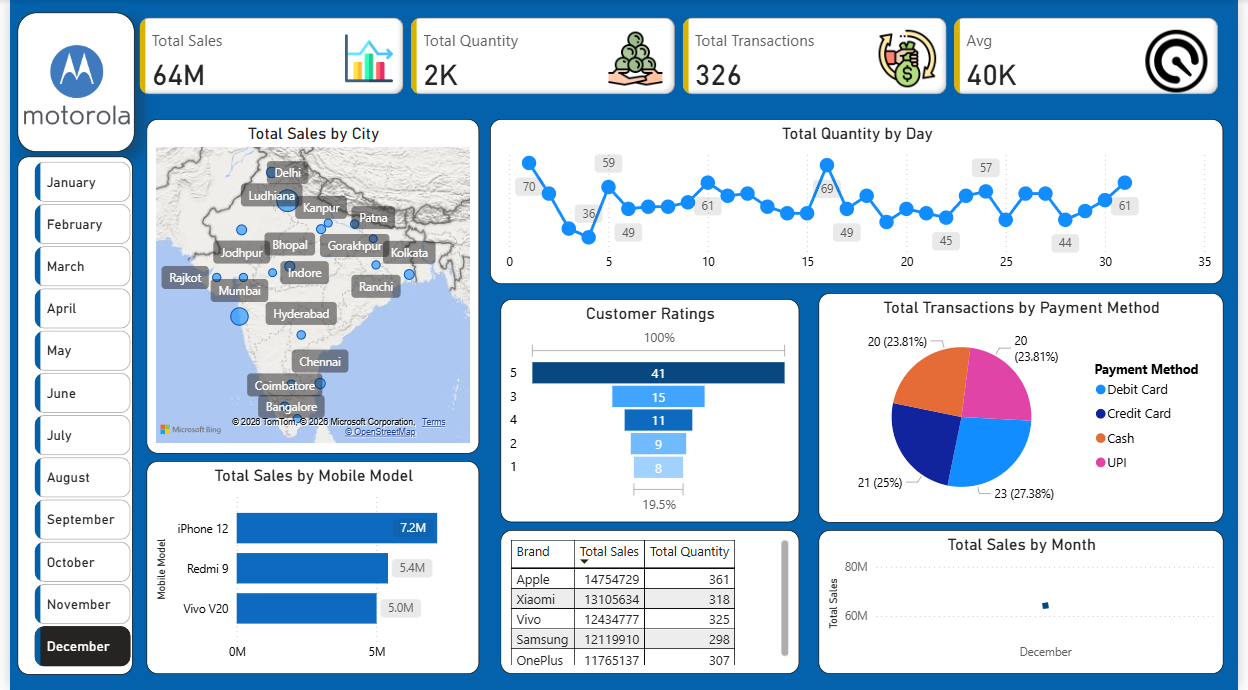

This screenshot's page, from the dashboard's own definition file:
{"tool":"powerbi","page":{"name":"Page 1","canvas":[1280,720],"ordinal":0},"visuals":[{"type":"shape","box":[8.3,13.3,121.7,145],"z":0},{"type":"image","box":[10,13.3,120,150],"z":1000},{"type":"shape","box":[8.3,163.3,120,540],"z":2000},{"type":"advancedSlicerVisual","fields":{"Values":["Sales_data.Date.Variation.Date Hierarchy.Month"]},"box":[20,163.3,110,540],"z":3000},{"type":"cardVisual","fields":{"Data":["Sales_data.Total Sales","Sales_data.Total Quantity","Sales_data.Total Transactions","Sales_data.Avg"]},"box":[130,13.3,1135,90],"z":4000},{"type":"map","fields":{"Size":["Sales_data.Total Sales"],"Category":["Sales_data.City"]},"box":[142.2,125,347,348.5],"z":5000},{"type":"lineChart","fields":{"Category":["Sales_data.Date.Variation.Date Hierarchy.Month","Sales_data.Date.Variation.Date Hierarchy.Day"],"Y":["Sales_data.Total Quantity"]},"box":[500.2,125,764.3,171.9],"z":6000},{"type":"clusteredBarChart","fields":{"Category":["Sales_data.Mobile Model"],"Y":["Sales_data.Total Sales"]},"box":[142.2,481.4,347,221.9],"z":7000},{"type":"pieChart","fields":{"Category":["Sales_data.Payment Method"],"Y":["Sales_data.Total Transactions"]},"box":[842.5,306.3,422,239.1],"z":8000},{"type":"funnel","title":"Customer Ratings","fields":{"Category":["Sales_data.Customer Ratings"],"Y":["CountNonNull(Sales_data.Customer Ratings)"]},"box":[511.1,312.6,311,232.9],"z":9000},{"type":"areaChart","fields":{"Y":["Sales_data.Total Sales"],"Category":["Sales_data.Date.Variation.Date Hierarchy.Month"]},"box":[842.5,553.3,422,150],"z":10000},{"type":"tableEx","fields":{"Values":["Sales_data.Brand","Sales_data.Total Sales","Sales_data.Total Quantity"]},"box":[511.1,553.3,311,150],"z":11000}]}

Visuals, with their boxes in screenshot pixels (x1, y1, x2, y2), scaled from the page's 1280x720 canvas onto the 1248x690 screenshot:
shape: 8, 13, 127, 152
image: 10, 13, 127, 156
shape: 8, 156, 125, 674
advancedSlicerVisual - Sales_data.Date.Variation.Date Hierarchy.Month: 20, 156, 127, 674
cardVisual - Sales_data.Total Sales x Sales_data.Total Quantity: 127, 13, 1233, 99
map - Sales_data.Total Sales x Sales_data.City: 139, 120, 477, 454
lineChart - Sales_data.Date.Variation.Date Hierarchy.Month x Sales_data.Date.Variation.Date Hierarchy.Day: 488, 120, 1233, 285
clusteredBarChart - Sales_data.Mobile Model x Sales_data.Total Sales: 139, 461, 477, 674
pieChart - Sales_data.Payment Method x Sales_data.Total Transactions: 821, 294, 1233, 523
"Customer Ratings" funnel: 498, 300, 802, 523
areaChart - Sales_data.Total Sales x Sales_data.Date.Variation.Date Hierarchy.Month: 821, 530, 1233, 674
tableEx - Sales_data.Brand x Sales_data.Total Sales: 498, 530, 802, 674
